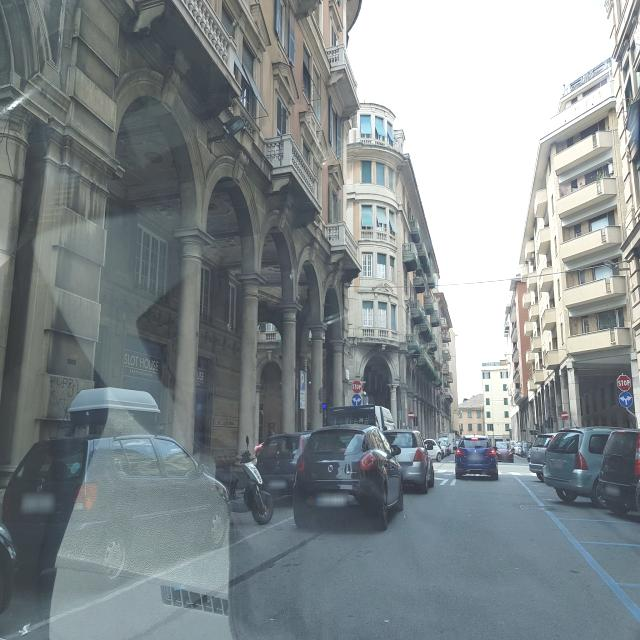bike: (215, 432, 275, 526)
car: (1, 387, 229, 580), (292, 422, 404, 530), (544, 424, 622, 506), (596, 426, 640, 522), (254, 430, 311, 500), (384, 428, 434, 493), (327, 404, 396, 434), (454, 434, 498, 481), (0, 504, 18, 618), (528, 432, 554, 480), (494, 440, 514, 462), (424, 438, 444, 460), (438, 438, 451, 454)
